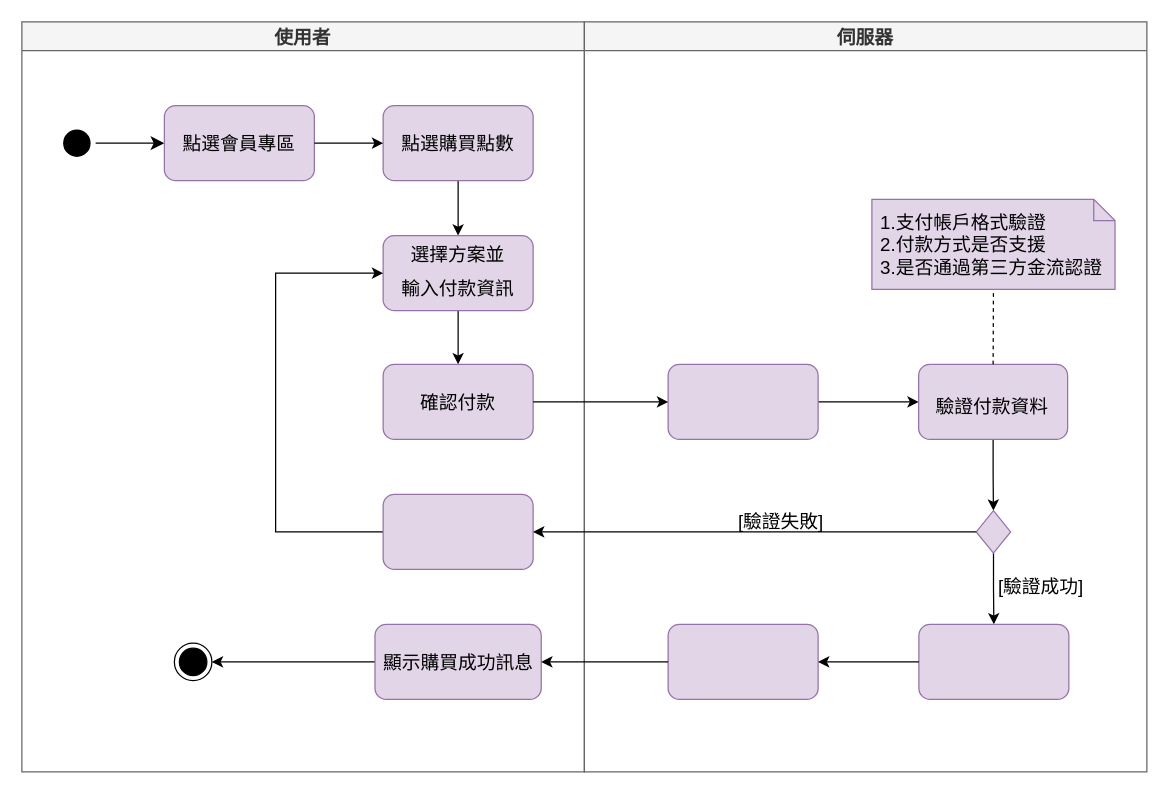
Image size: 1169x794. Some labels were removed from this diagram. The shapes that lost their labels are listed below. From the top down, each one's centre as x and y in pixels, then its label:
At (742,401): "接收付款資訊".
At (457,531): "顯示錯誤訊息".
At (742,661): "傳送成功訊息 至使用者".
At (993,661): "更新使用者點數".
